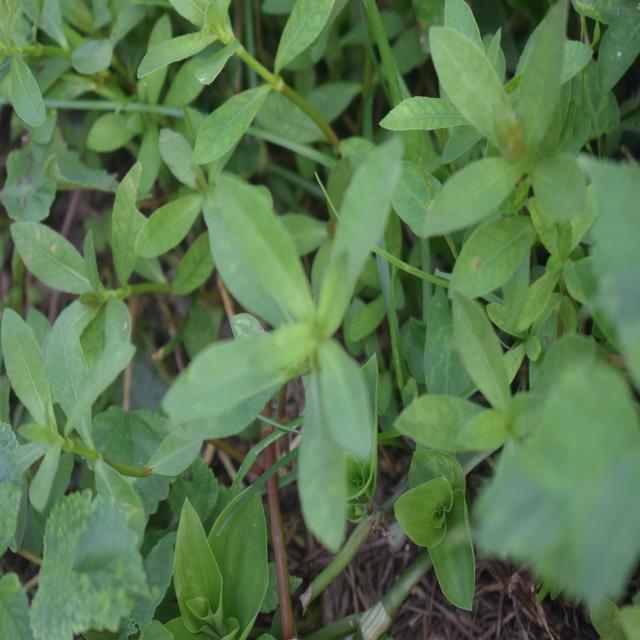Alligatorweed: (0, 176, 172, 371), (136, 0, 333, 159)
